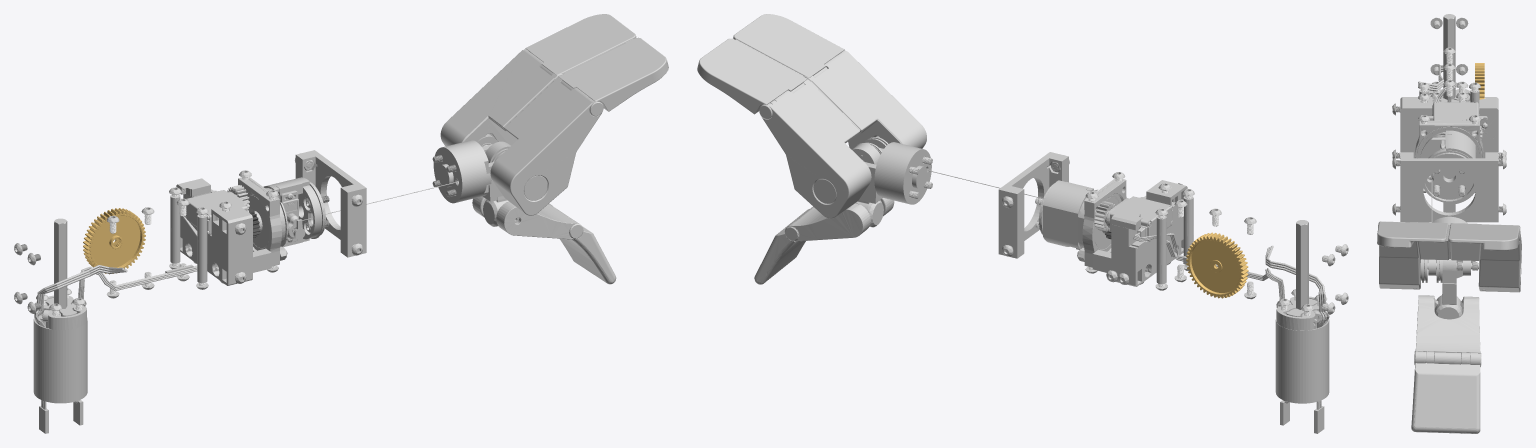
File: bras-v5-leger.glb
3 renders of one model, left to right at view 1: azimuth 30°, elevation 25°; view 2: azimuth 150°, elevation 25°; view 3: azimuth 270°, elevation 25°, orthographic. The views are drawn at different scales.
Parts seen in each view (by area): view 1: v5-93, v5-92, v5-4, v5-96, v5-5, v5-66, v5-21, v5-88, v5-1, v5-12, v5-8, v5-6 (+7 smaller); view 2: v5-92, v5-93, v5-4, v5-5, v5-96, v5-66, v5-21, v5-88, v5-1, v5-12, v5-6, v5-8 (+4 smaller); view 3: v5-96, v5-66, v5-93, v5-92, v5-4, v5-1, v5-6, v5-91, v5-12, v5-8, v5-0, v5-15 (+7 smaller).
Part boxes in pixels (left/top/right/bottom): v5-93: left=490, top=37, right=668, bottom=215; v5-92: left=440, top=14, right=636, bottom=146; v5-4: left=176, top=178, right=271, bottom=285; v5-96: left=472, top=196, right=616, bottom=284; v5-5: left=33, top=317, right=87, bottom=403; v5-66: left=295, top=150, right=366, bottom=257; v5-21: left=83, top=208, right=145, bottom=274; v5-88: left=433, top=141, right=486, bottom=203; v5-1: left=263, top=177, right=322, bottom=247; v5-12: left=238, top=177, right=281, bottom=266; v5-8: left=54, top=218, right=67, bottom=312; v5-6: left=185, top=189, right=249, bottom=234; v5-92: left=697, top=38, right=871, bottom=218; v5-93: left=733, top=14, right=926, bottom=149; v5-4: left=1092, top=180, right=1187, bottom=286; v5-5: left=1275, top=317, right=1329, bottom=403; v5-96: left=754, top=198, right=894, bottom=284; v5-66: left=998, top=152, right=1068, bottom=258; v5-21: left=1186, top=232, right=1248, bottom=298; v5-88: left=878, top=143, right=931, bottom=204; v5-1: left=1043, top=180, right=1090, bottom=249; v5-12: left=1082, top=178, right=1126, bottom=267; v5-6: left=1106, top=196, right=1172, bottom=241; v5-8: left=1296, top=220, right=1308, bottom=309; v5-96: left=1411, top=294, right=1481, bottom=433; v5-66: left=1400, top=152, right=1498, bottom=222; v5-93: left=1377, top=221, right=1450, bottom=289; v5-92: left=1448, top=223, right=1521, bottom=292; v5-4: left=1400, top=97, right=1498, bottom=158; v5-1: left=1425, top=132, right=1475, bottom=204; v5-6: left=1428, top=102, right=1487, bottom=133; v5-91: left=1436, top=259, right=1456, bottom=304; v5-12: left=1415, top=120, right=1483, bottom=158; v5-8: left=1443, top=14, right=1455, bottom=99; v5-0: left=1420, top=130, right=1476, bottom=179; v5-15: left=1417, top=126, right=1481, bottom=158.
Bounding box in the file's own units: 424 × 165 × 90.89.
